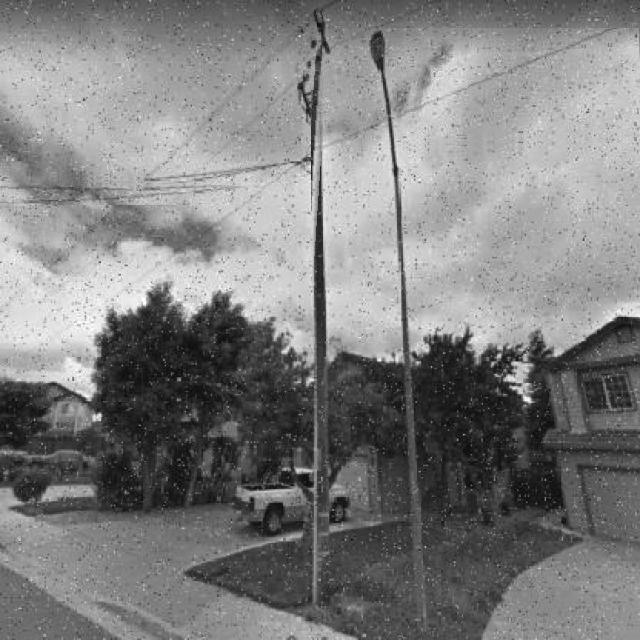crossarm: (315, 17, 331, 55)
pole: (311, 38, 325, 380)
wire: (322, 28, 631, 151), (0, 156, 312, 188), (0, 184, 244, 205), (314, 1, 341, 15)
